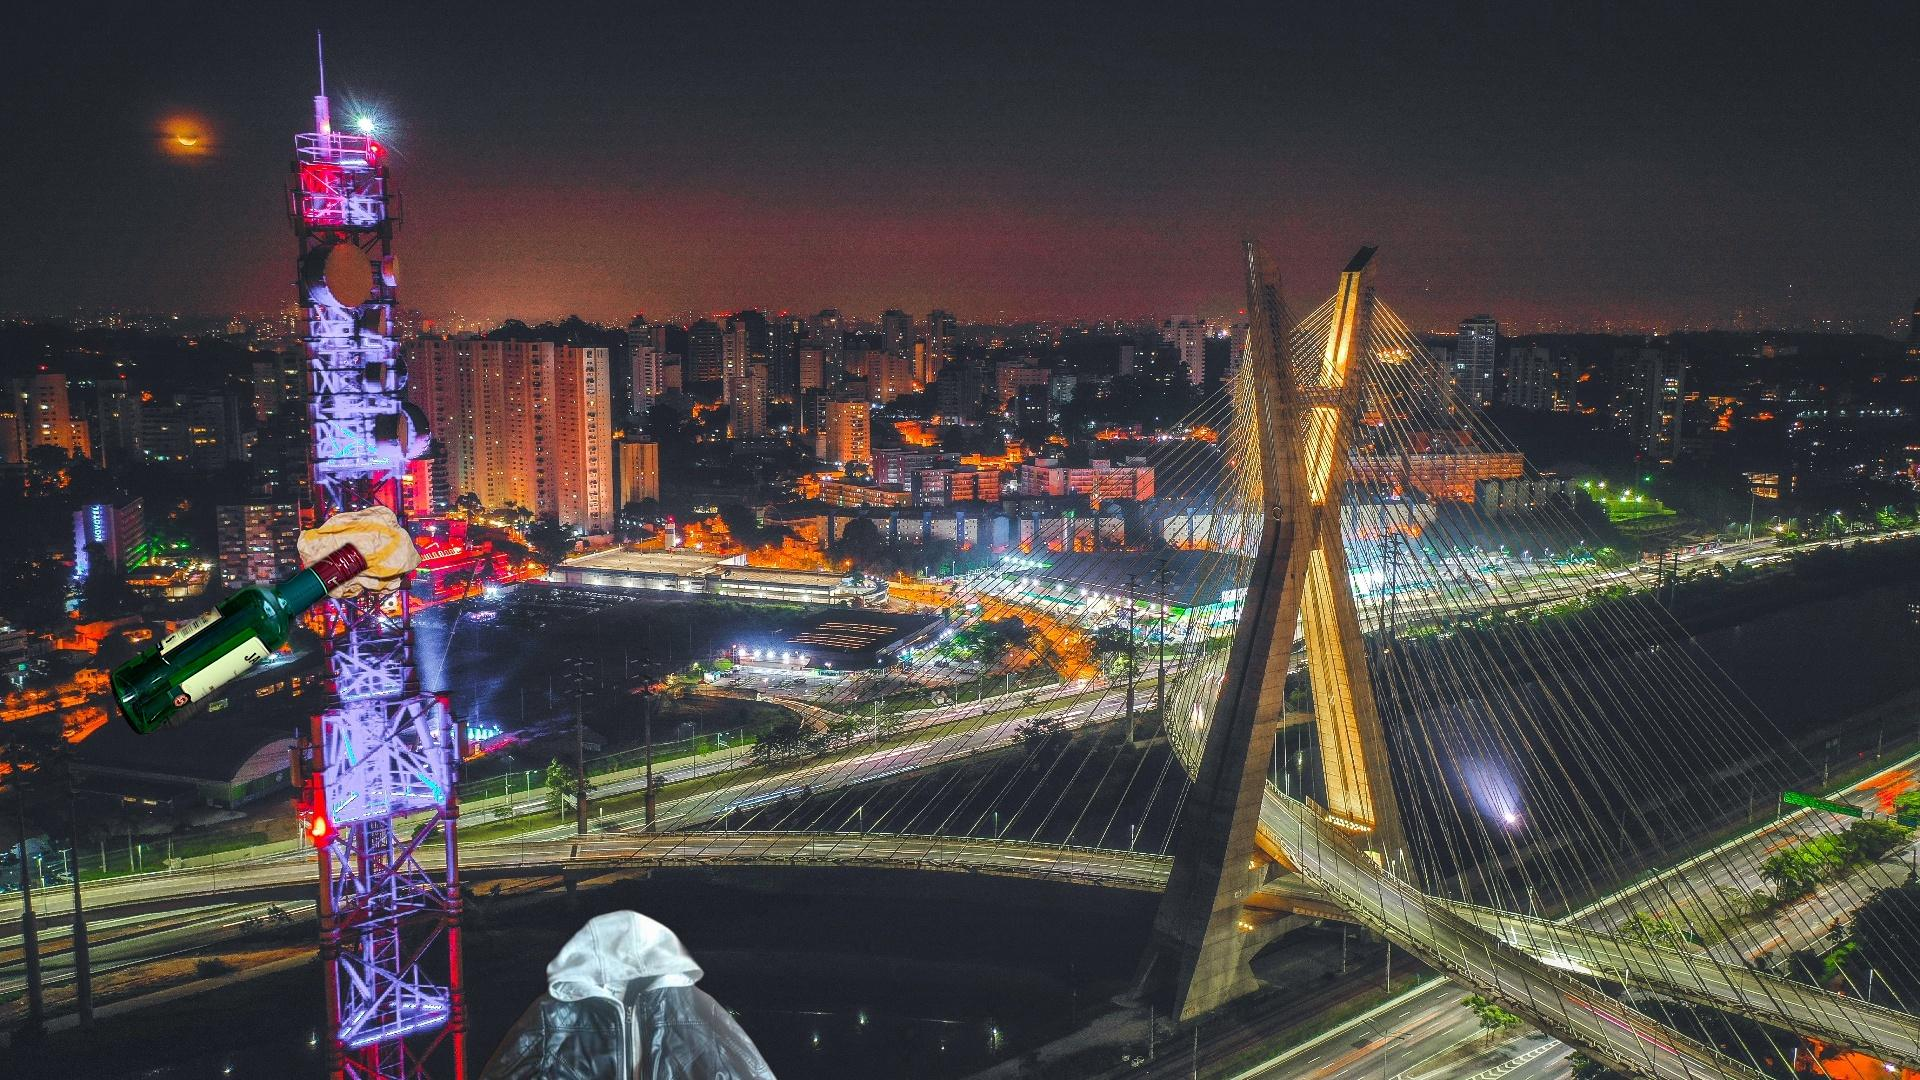clothes: (378, 907, 831, 1080)
glass: (105, 535, 373, 742)
paper-bag: (294, 502, 425, 601)
